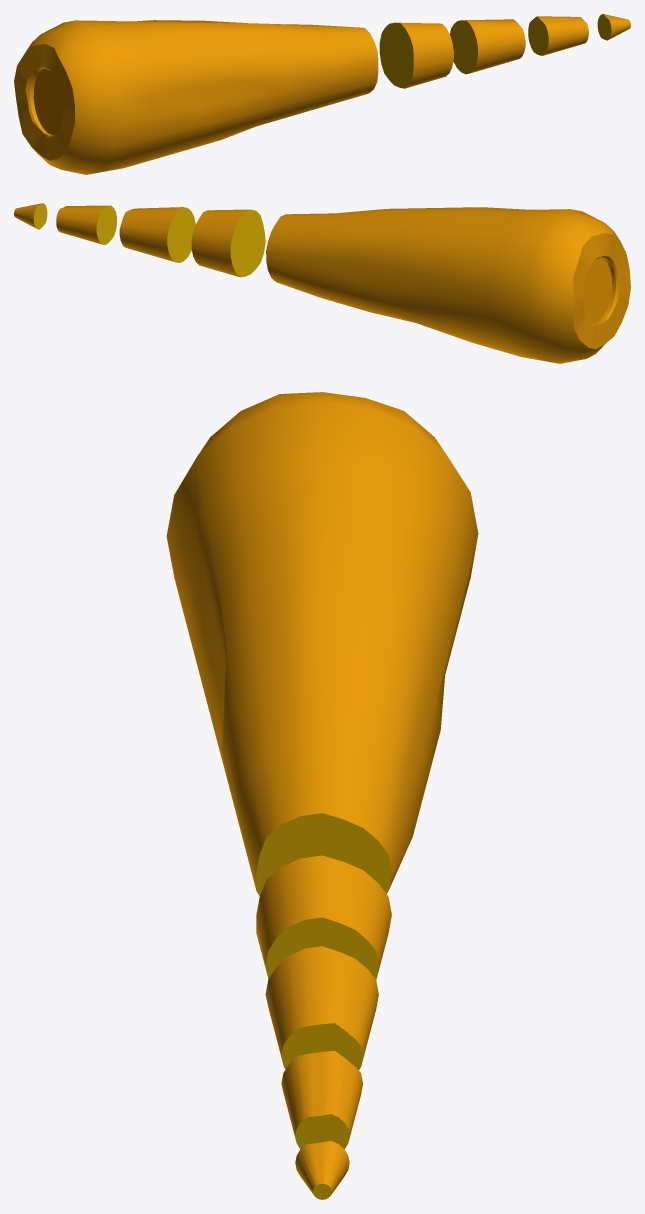
Rendered from mesh_Carrot_Stage2.fbx.
The picture shows the model from 3 angles, top to bottom: view 1: azimuth 30°, elevation 25°; view 2: azimuth 150°, elevation 25°; view 3: azimuth 270°, elevation 25°; orthographic projection. The views are drawn at different scales.
Parts seen in each view (by area): view 1: mesh_carrot_stage2; view 2: mesh_carrot_stage2; view 3: mesh_carrot_stage2.
Boxes of the visible parts, <box> form: mesh_carrot_stage2: <box>14,14,630,174</box>; mesh_carrot_stage2: <box>14,203,630,363</box>; mesh_carrot_stage2: <box>166,392,478,1199</box>.
Bounding box in the file's own units: 0.2229 × 0.0519 × 0.051.
